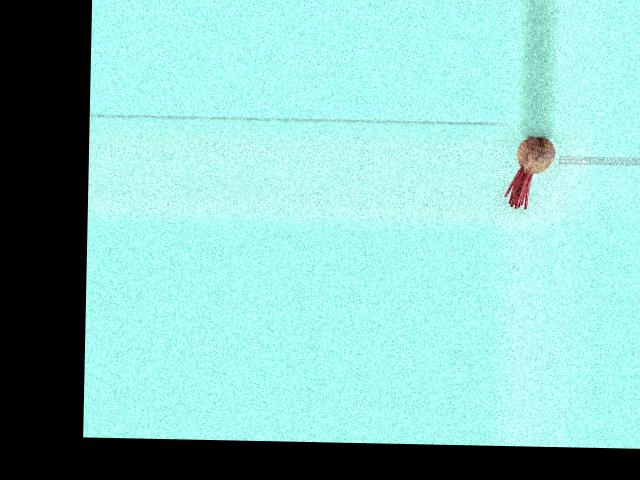beet: (505, 136, 556, 209)
